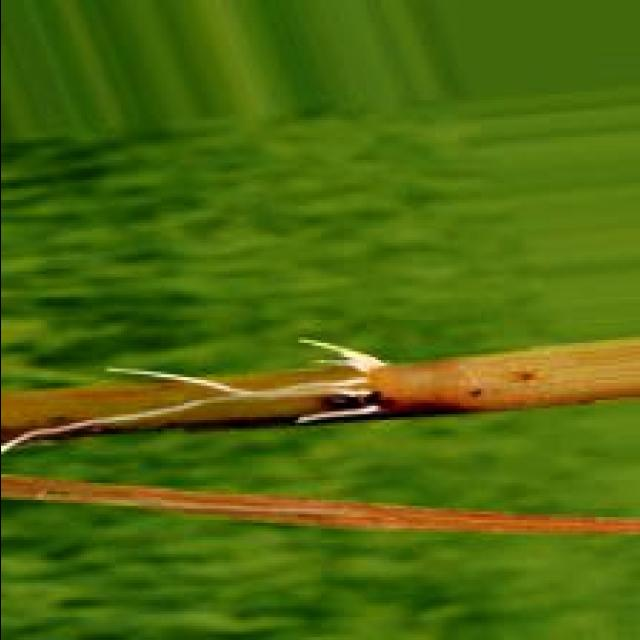Unhealthy: (0, 473, 640, 535)
